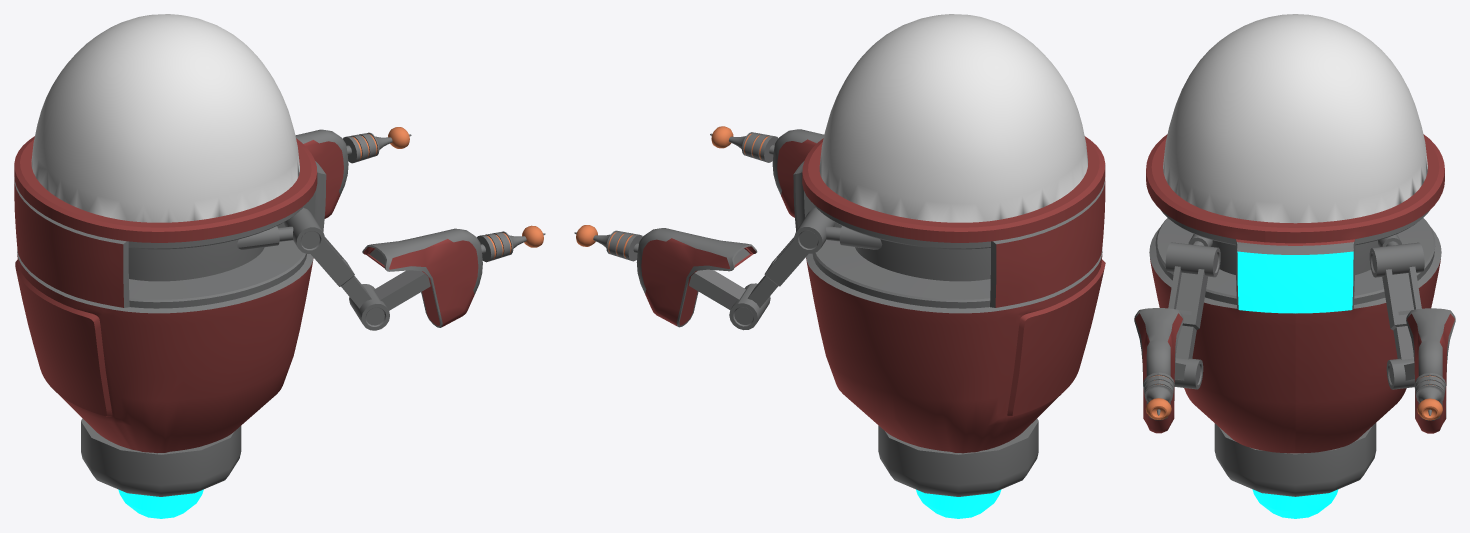
Rendered from Robot_Lv1.fbx.
The picture shows the model from 3 angles, left to right: view 1: azimuth 30°, elevation 25°; view 2: azimuth 150°, elevation 25°; view 3: azimuth 270°, elevation 25°; orthographic projection.
Parts seen in each view (by area): view 1: Corpo.001, Cupola.001, BraccioDestro.001, BraccioSinistro.001; view 2: Corpo.001, Cupola.001, BraccioSinistro.001, BraccioDestro.001; view 3: Corpo.001, Cupola.001, BraccioDestro.001, BraccioSinistro.001.
Part boxes in pixels (box(x1,y1,x2,y2)): Corpo.001: box(14, 136, 326, 518); Cupola.001: box(31, 14, 299, 222); BraccioDestro.001: box(237, 207, 545, 330); BraccioSinistro.001: box(295, 127, 411, 218); Corpo.001: box(793, 136, 1105, 518); Cupola.001: box(819, 14, 1087, 222); BraccioSinistro.001: box(574, 207, 882, 330); BraccioDestro.001: box(710, 126, 824, 217); Corpo.001: box(1146, 134, 1444, 518); Cupola.001: box(1163, 14, 1427, 223); BraccioDestro.001: box(1134, 234, 1220, 433); BraccioSinistro.001: box(1369, 234, 1455, 433).
Size of the model in its own units: 408 by 430 by 256.
